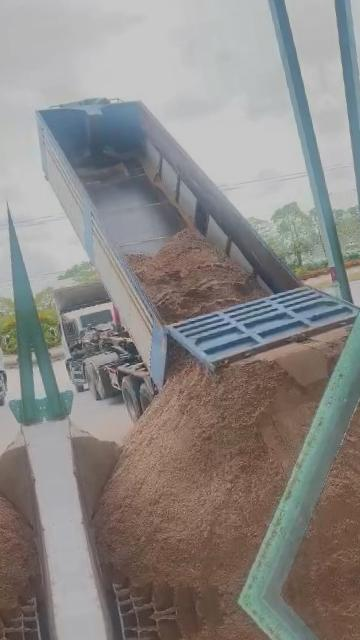sand: (95, 338, 343, 611), (285, 385, 360, 591), (129, 229, 265, 322), (72, 423, 119, 516)
